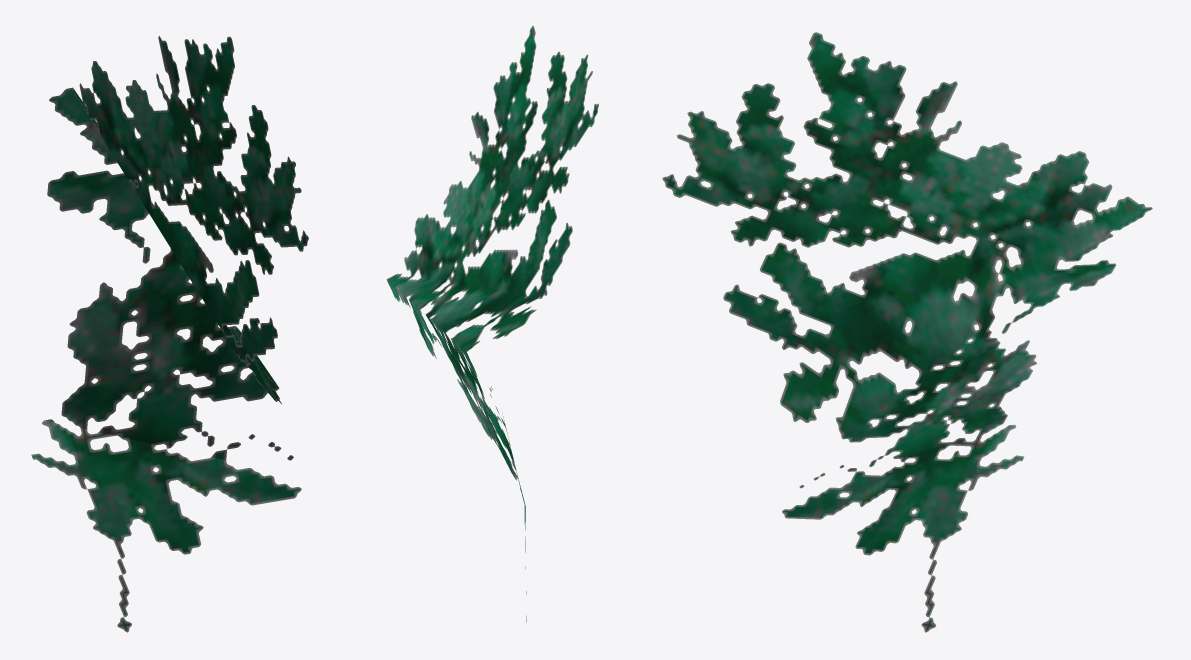
Rendered from Green Bush 3.fbx.
3 renders of one model, left to right at view 1: azimuth 30°, elevation 25°; view 2: azimuth 150°, elevation 25°; view 3: azimuth 270°, elevation 25°, orthographic. The views are drawn at different scales.
Parts seen in each view (by area): view 1: Grass.001; view 2: Grass.001; view 3: Grass.001.
Boxes of the visible parts, box(x1,y1,x2,y2) form: Grass.001: box(31, 36, 308, 632); Grass.001: box(386, 25, 598, 622); Grass.001: box(662, 32, 1152, 632).
Size of the model in its own units: 152 by 521 by 386.
